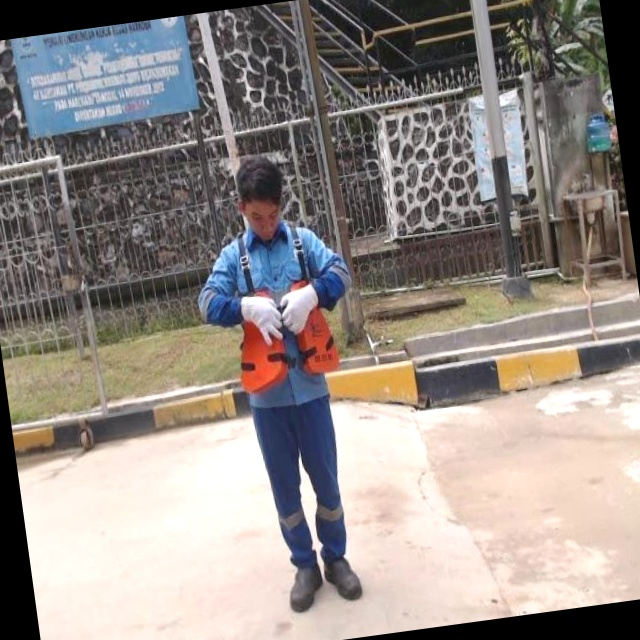boots: (289, 547, 333, 611), (253, 552, 289, 611)
gloves: (236, 273, 288, 332), (285, 268, 329, 320)
vest: (232, 225, 342, 400)
